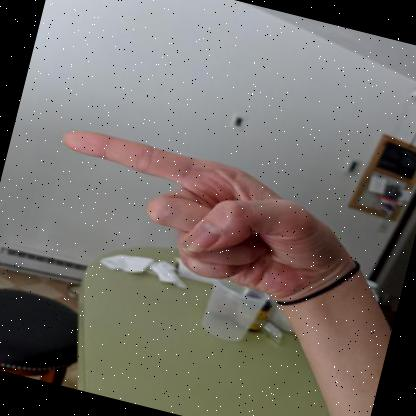G: (62, 131, 350, 318)
